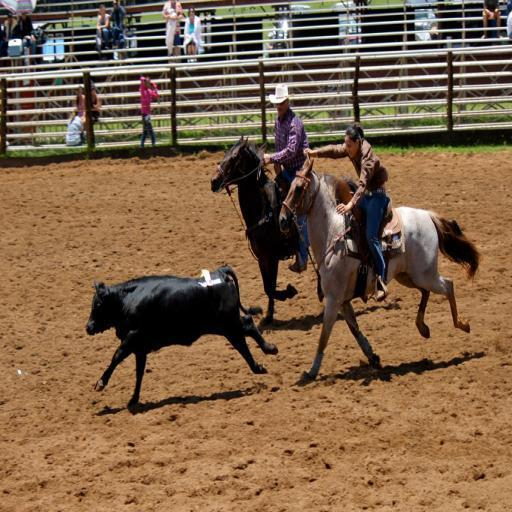horse: (280, 156, 482, 382), (206, 132, 360, 324)
